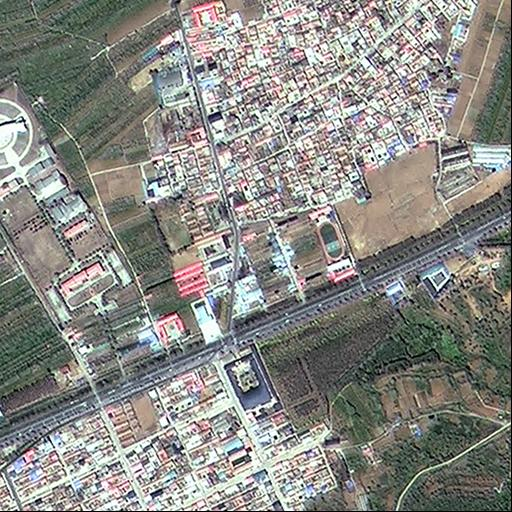school: (308, 202, 359, 285)
